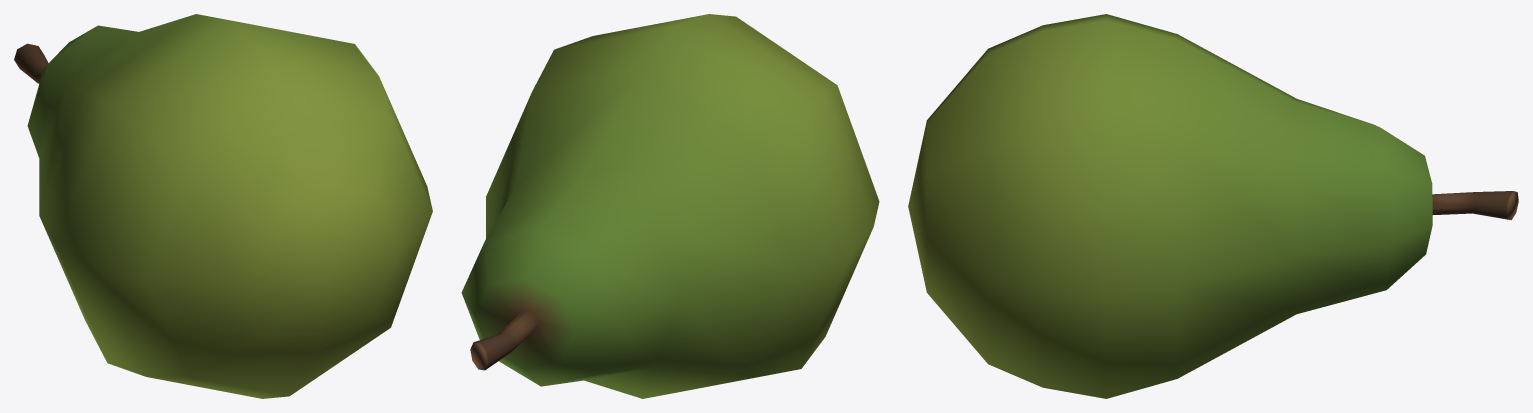
The model's file is consumables-fruits-pear_v1.glb.
The picture shows the model from 3 angles, left to right: view 1: azimuth 30°, elevation 25°; view 2: azimuth 150°, elevation 25°; view 3: azimuth 270°, elevation 25°; orthographic projection.
Visible parts, largest first — view 1: Pear.001; view 2: Pear.001; view 3: Pear.001.
Part boxes in pixels (<box>): Pear.001: <box>14,14,432,398</box>; Pear.001: <box>461,14,879,398</box>; Pear.001: <box>908,14,1518,398</box>.
Size of the model in its own units: 0.0719 by 0.0719 by 0.1072.
